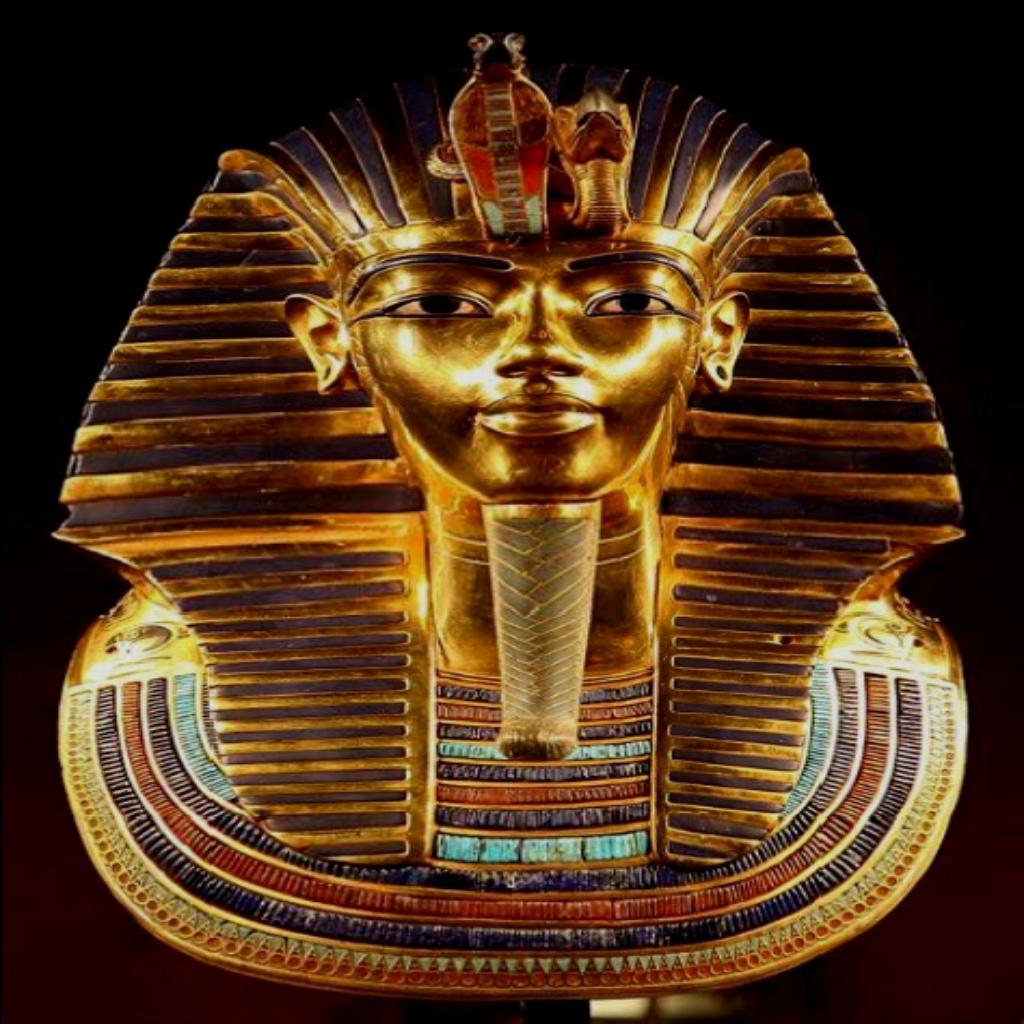Mask of Tutankhamun: (50, 31, 974, 1003)
